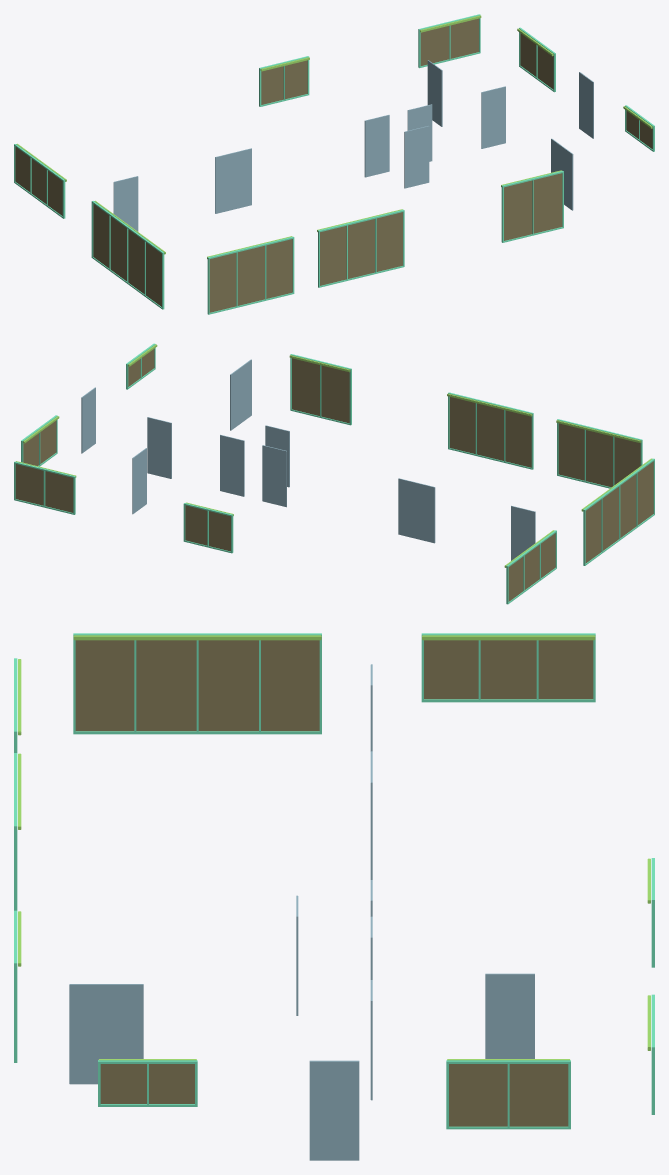
Rendered from structure.glb.
3 renders of one model, top to bottom at view 1: azimuth 30°, elevation 25°; view 2: azimuth 150°, elevation 25°; view 3: azimuth 270°, elevation 25°, orthographic. The views are drawn at different scales.
Parts seen in each view (by area): view 1: FEN10_S, FEN11_S, FEN12_W, FEN13_S, FEN17_N, FEN15_W, PORTE5, FEN16_N, FEN18_E, PORTE2, PORTE6, PORTE8 (+6 smaller); view 2: FEN11_S, FEN10_S, FEN12_W, FEN13_S, FEN17_N, PORTE5, FEN15_W, FEN16_N, PORTE8, PORTE6, PORTE7, FEN18_E (+6 smaller); view 3: FEN12_W, FEN15_W, FEN18_E, PORTE3, ENT1_E, FEN14_E, PORTE9, FEN11_S, FEN13_S.
Part boxes in pixels (x1,y1,x2,y2): FEN10_S: (207,236,294,314); FEN11_S: (317,209,404,287); FEN12_W: (91,200,165,309); FEN13_S: (501,170,563,242); FEN17_N: (418,14,481,68); FEN15_W: (14,143,66,218); PORTE5: (215,148,251,213); FEN16_N: (259,56,309,106); FEN18_E: (517,27,555,92); PORTE2: (404,126,429,188); PORTE6: (364,115,389,177); PORTE8: (481,86,505,148); FEN11_S: (447,392,533,469); FEN10_S: (556,419,642,488); FEN12_W: (581,458,654,565); FEN13_S: (289,354,351,425); FEN17_N: (14,461,76,514); PORTE5: (398,478,435,543); FEN15_W: (504,530,556,604); FEN16_N: (183,502,233,553); PORTE8: (147,417,171,478); PORTE6: (262,445,286,507); PORTE7: (220,434,244,496); FEN18_E: (21,415,59,466); FEN12_W: (73,633,321,734); FEN15_W: (421,633,595,702); FEN18_E: (446,1059,570,1129); PORTE3: (69,984,143,1084); ENT1_E: (309,1060,359,1160); FEN14_E: (98,1059,197,1106); PORTE9: (485,973,534,1058); FEN11_S: (14,753,21,910); FEN13_S: (14,910,21,1062).
Size of the model in its own units: 20.38 by 2.21 by 12.88.
